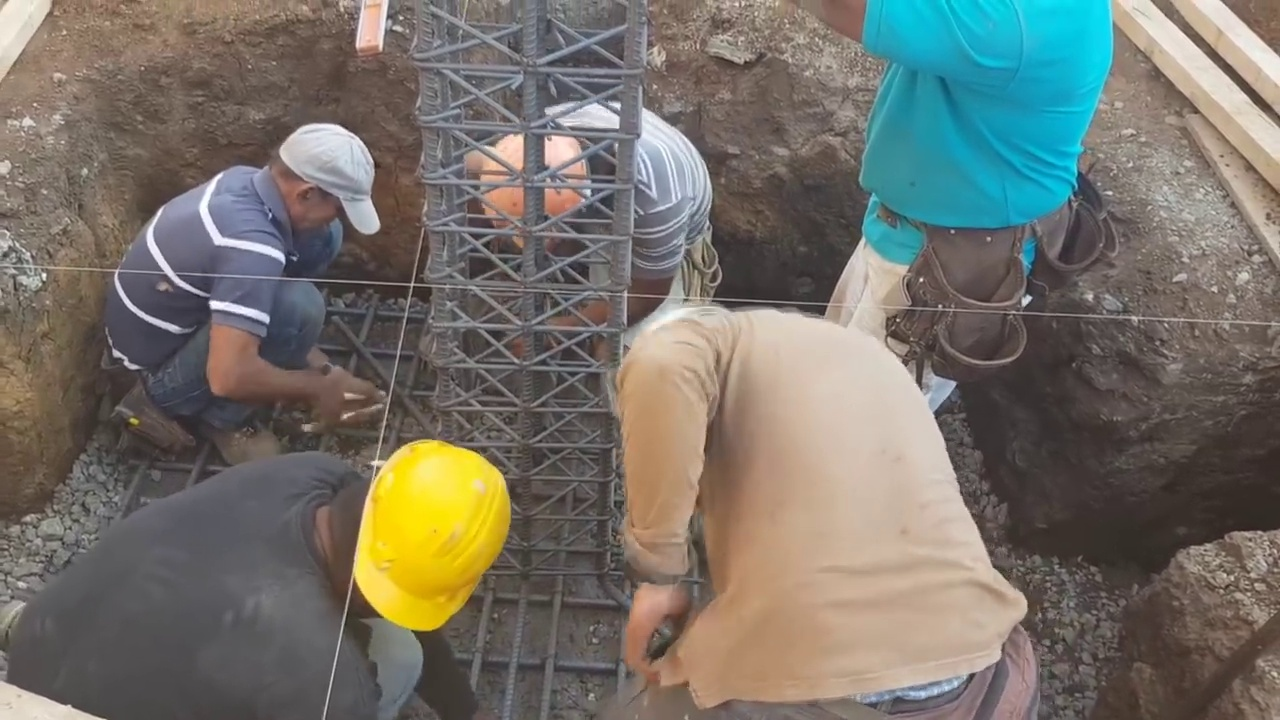helmet: (351, 443, 509, 627), (469, 119, 584, 232)
helmet-off: (269, 121, 383, 242)
helmet-on: (322, 428, 500, 627), (473, 118, 618, 244)
person: (582, 297, 1027, 720), (12, 424, 499, 720), (806, 0, 1106, 450), (107, 111, 394, 453), (455, 112, 708, 336)
